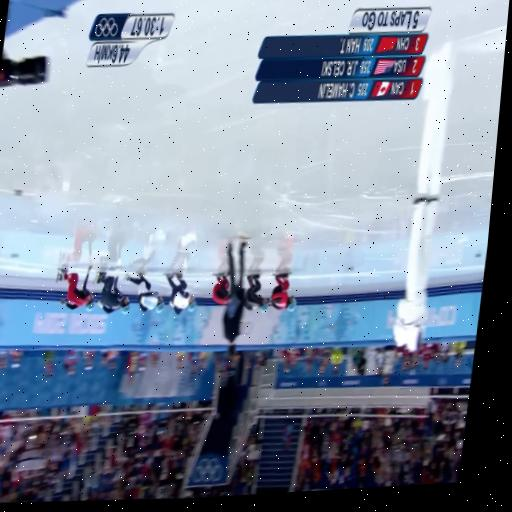Skater: (56, 265, 95, 310), (124, 272, 163, 311), (94, 271, 129, 313), (166, 272, 194, 314), (270, 272, 295, 311), (244, 273, 268, 312), (212, 272, 228, 304)
